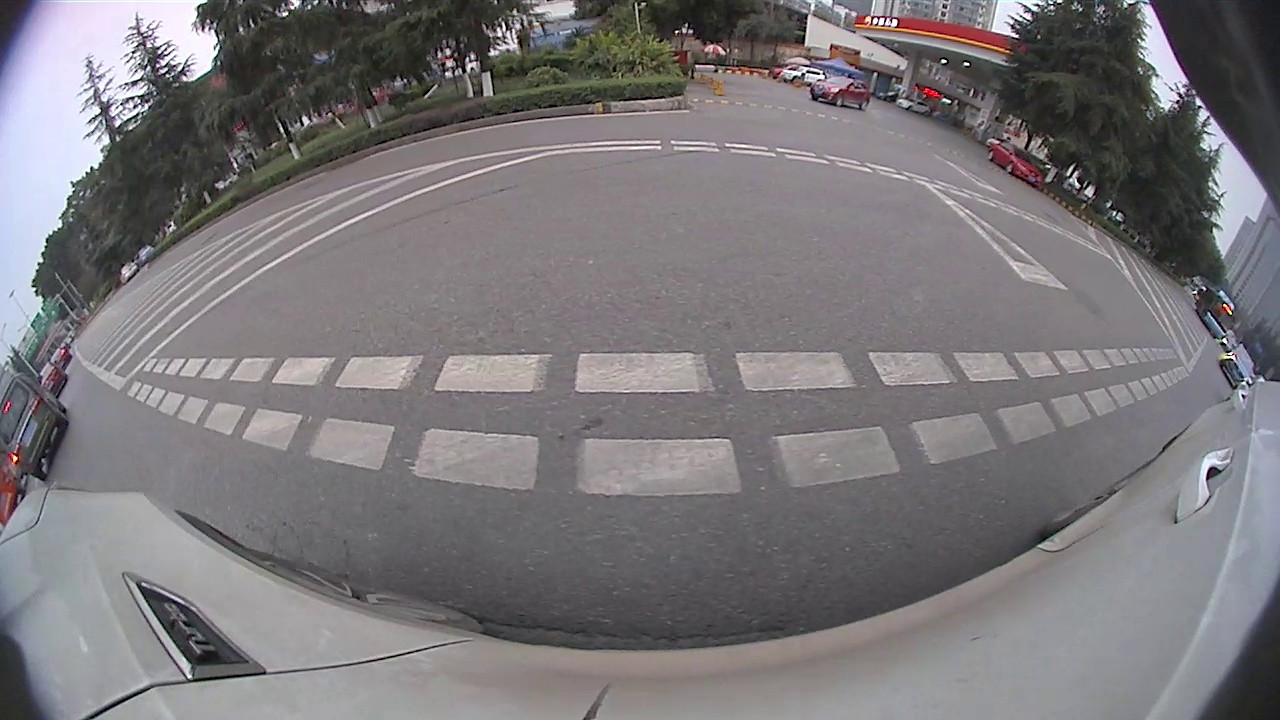car: (652, 75, 1152, 405), (171, 74, 385, 231), (567, 53, 744, 128), (2, 307, 74, 398), (1187, 382, 1246, 464), (76, 223, 145, 293)
front: (1063, 352, 1121, 404), (282, 166, 315, 208)
rear: (826, 305, 955, 406), (602, 93, 640, 129), (204, 198, 229, 231)
